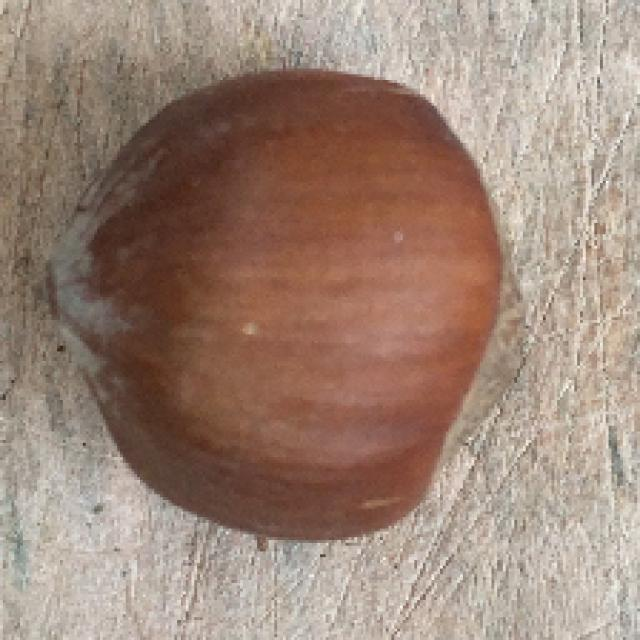qualityHazelnut: (50, 62, 522, 545)
